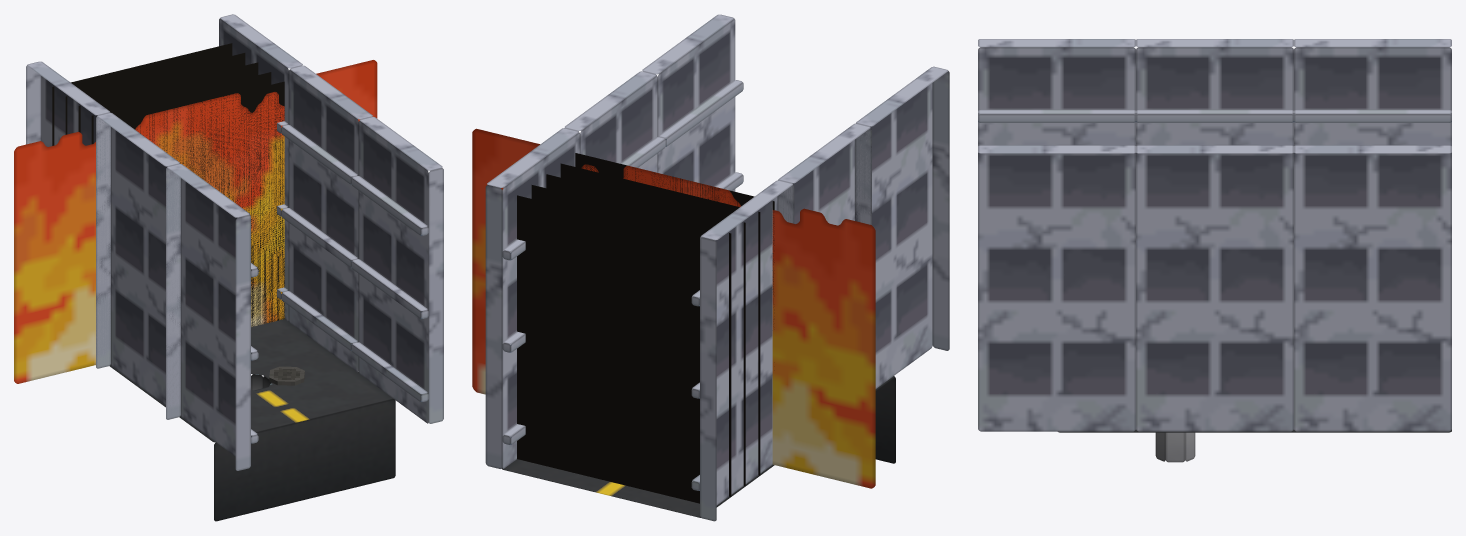
The model's file is end1.fbx.
3 renders of one model, left to right at view 1: azimuth 30°, elevation 25°; view 2: azimuth 150°, elevation 25°; view 3: azimuth 270°, elevation 25°, orthographic. The views are drawn at different scales.
Visible parts, largest first — view 1: cube, floor, building_3, building_4, building_2, building, ghostwall, building_6, building_5, builing-ledges_1, builing-ledges, ghostwall_4 (+4 smaller); view 2: ghostwall_4, cube, building_4, building_6, building_5, building_2, building_3, building, floor, ghostwall_3, ghostwall_1, ghostwall_2 (+4 smaller); view 3: building, building_2, building_5, building_3, building_4, building_6, builing-ledges_2, builing-ledges_3, builing-ledges_5, floor.
Part boxes in pixels (left/top/right/bottom): cube: left=14, top=60, right=377, bottom=383; floor: left=109, top=319, right=395, bottom=521; building_3: left=96, top=112, right=180, bottom=419; building_4: left=166, top=164, right=250, bottom=470; building_2: left=359, top=116, right=443, bottom=423; building: left=289, top=65, right=372, bottom=372; ghostwall: left=123, top=81, right=284, bottom=326; building_6: left=26, top=61, right=110, bottom=368; building_5: left=219, top=14, right=302, bottom=320; builing-ledges_1: left=351, top=176, right=428, bottom=402; builing-ledges: left=281, top=124, right=357, bottom=350; ghostwall_4: left=52, top=43, right=232, bottom=145; ghostwall_4: left=517, top=195, right=699, bottom=503; cube: left=472, top=128, right=875, bottom=488; building_4: left=855, top=66, right=949, bottom=388; building_6: left=700, top=180, right=793, bottom=521; building_5: left=485, top=128, right=580, bottom=468; building_2: left=642, top=14, right=735, bottom=191; building_3: left=777, top=123, right=871, bottom=225; building: left=564, top=71, right=657, bottom=172; floor: left=502, top=376, right=895, bottom=517; ghostwall_3: left=531, top=185, right=731, bottom=496; ghostwall_1: left=560, top=163, right=760, bottom=475; ghostwall_2: left=546, top=174, right=745, bottom=486; building: left=1136, top=145, right=1293, bottom=431; building_2: left=978, top=145, right=1135, bottom=431; building_5: left=1294, top=145, right=1451, bottom=431; building_3: left=1136, top=39, right=1293, bottom=145; building_4: left=978, top=39, right=1135, bottom=145; building_6: left=1294, top=39, right=1451, bottom=145; builing-ledges_2: left=1136, top=109, right=1293, bottom=122; builing-ledges_3: left=978, top=109, right=1135, bottom=122; builing-ledges_5: left=1294, top=109, right=1451, bottom=122; floor: left=1058, top=429, right=1451, bottom=462.
Bounding box in the file's own units: 300 × 262 × 300.
5 materials, 5 textured.
